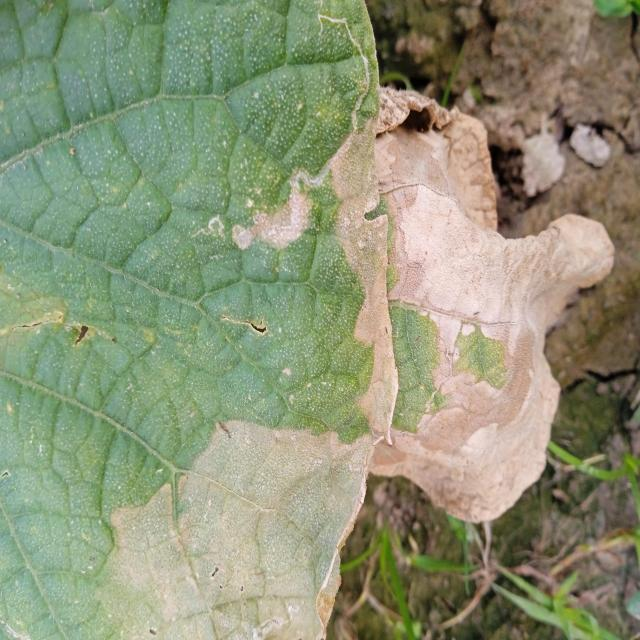cucumber_gummy: (0, 0, 414, 640), (366, 70, 619, 536)
